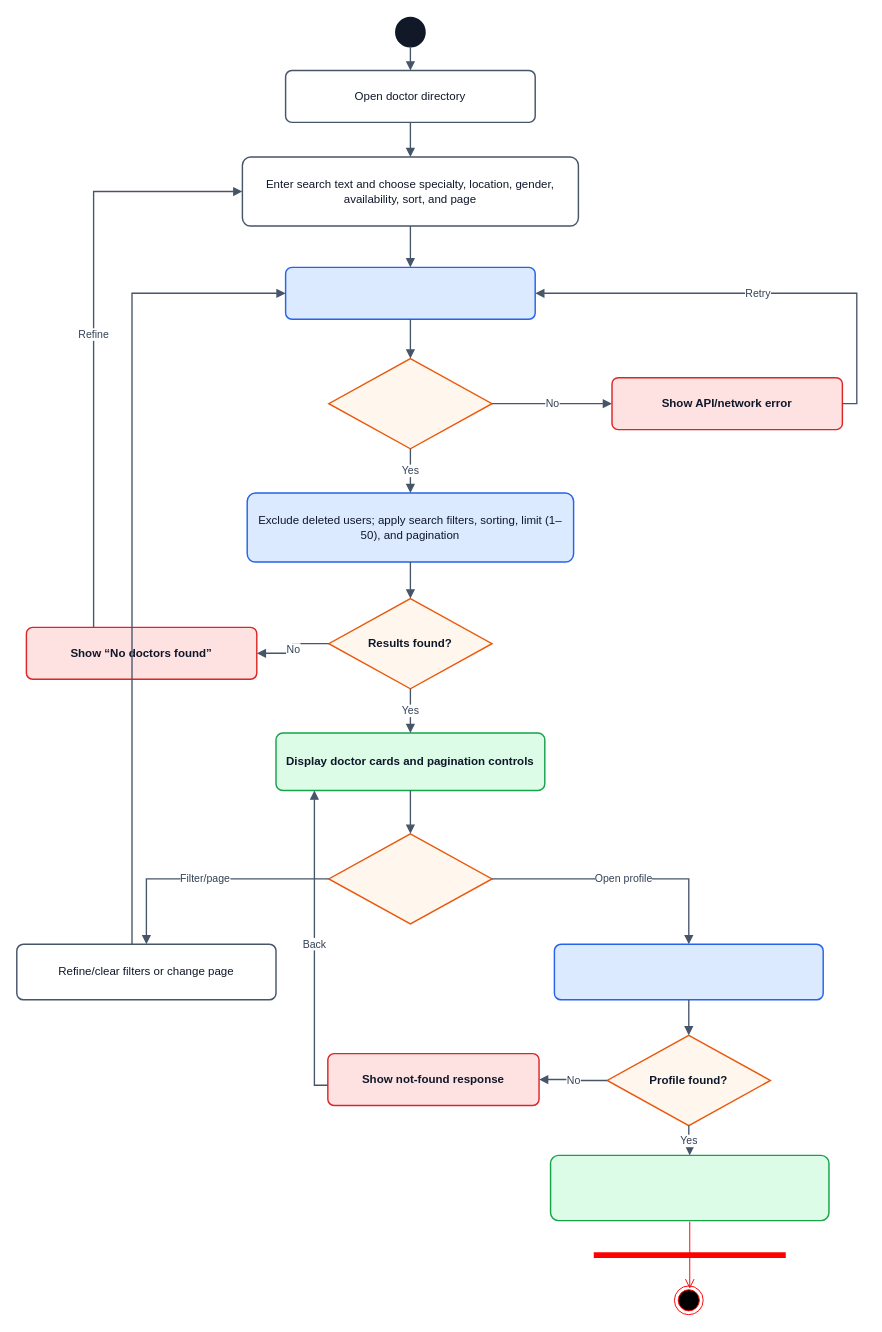
The diagram is 882 pixels wide and 1332 high, and some of its shapes have lost their labels. The shapes that lost their labels are listed below. From the top down, each one's box as (x1, y1, x2, y2) in pixels, then its label:
(284, 266, 535, 319): Request public doctor search API
(328, 357, 492, 449): Request successful?
(328, 833, 492, 924): Next action?
(553, 943, 823, 1000): Request selected public doctor profile
(549, 1154, 829, 1221): Display fee, specialty, location, availability, dates, and time slots
